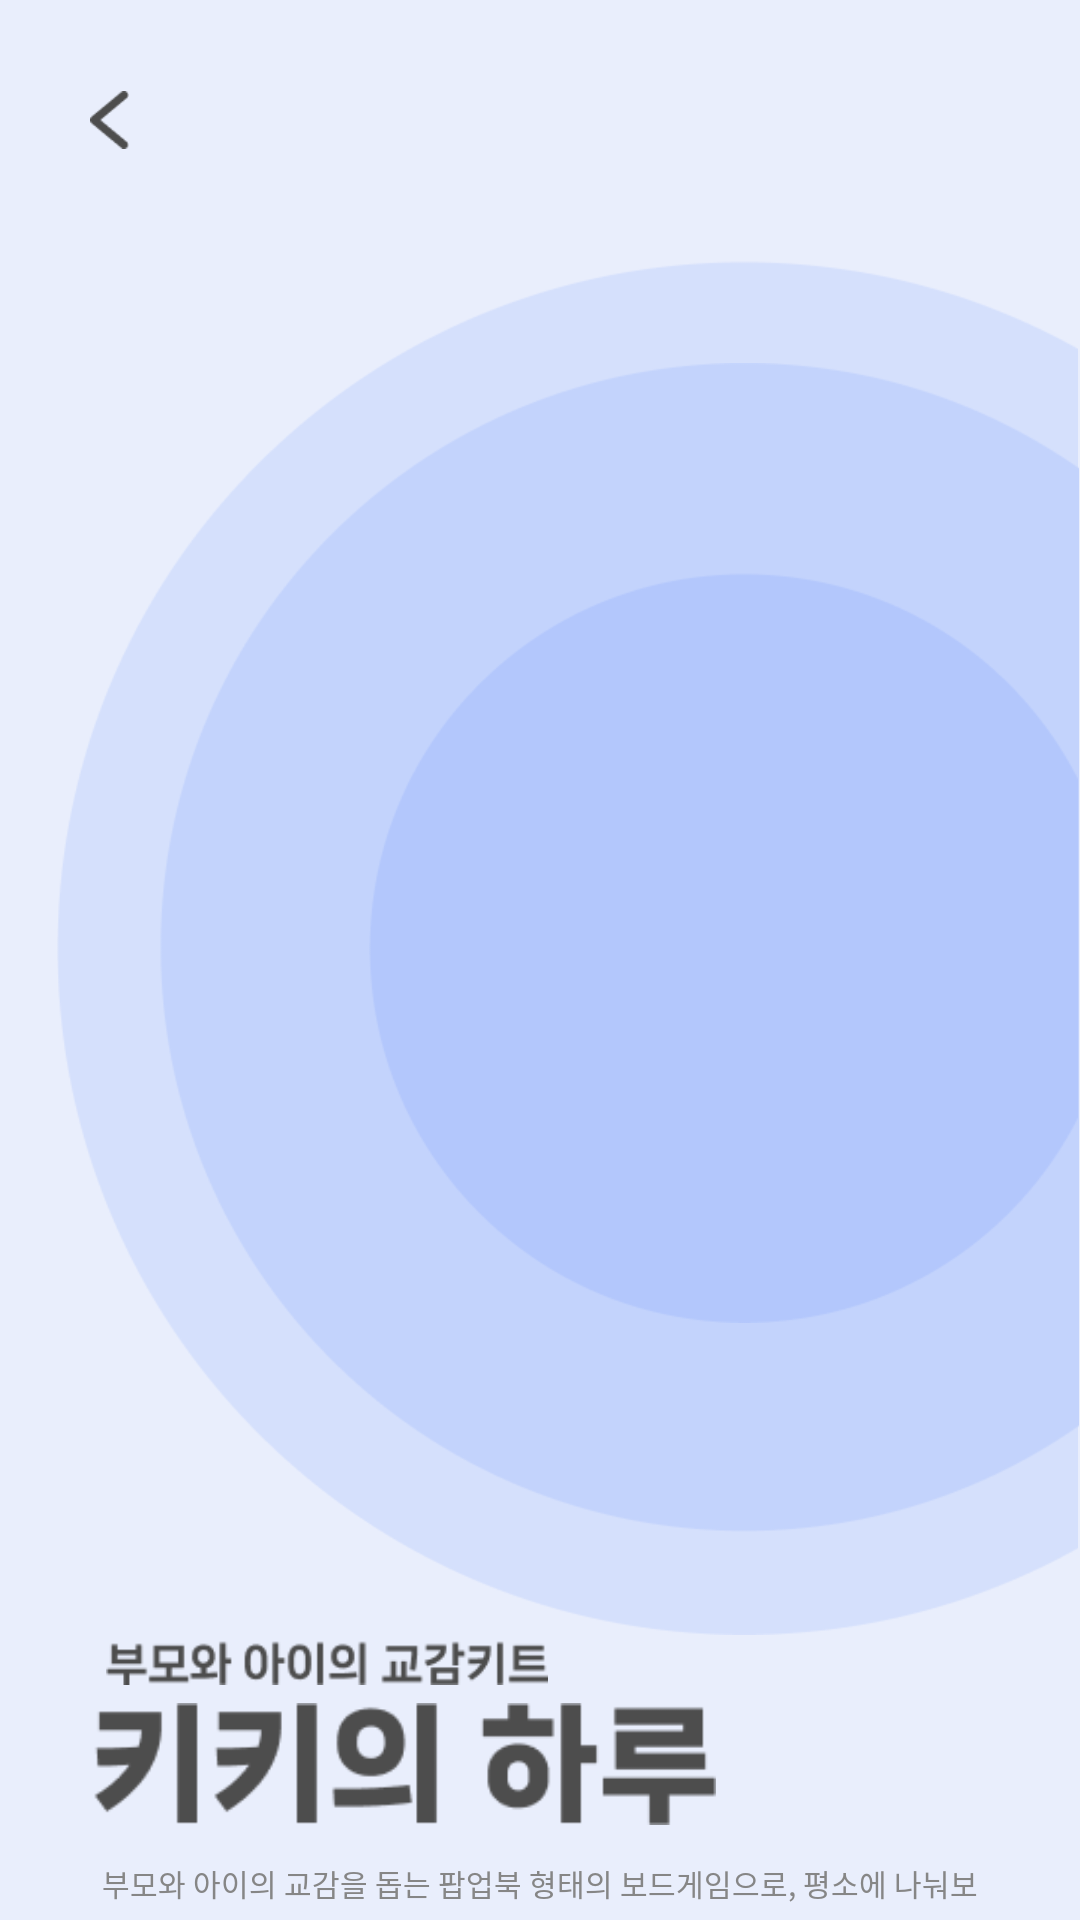

Icon click points for this 1080 × 1920 phone screenshot, format [x,y]:
back: [109,120]
